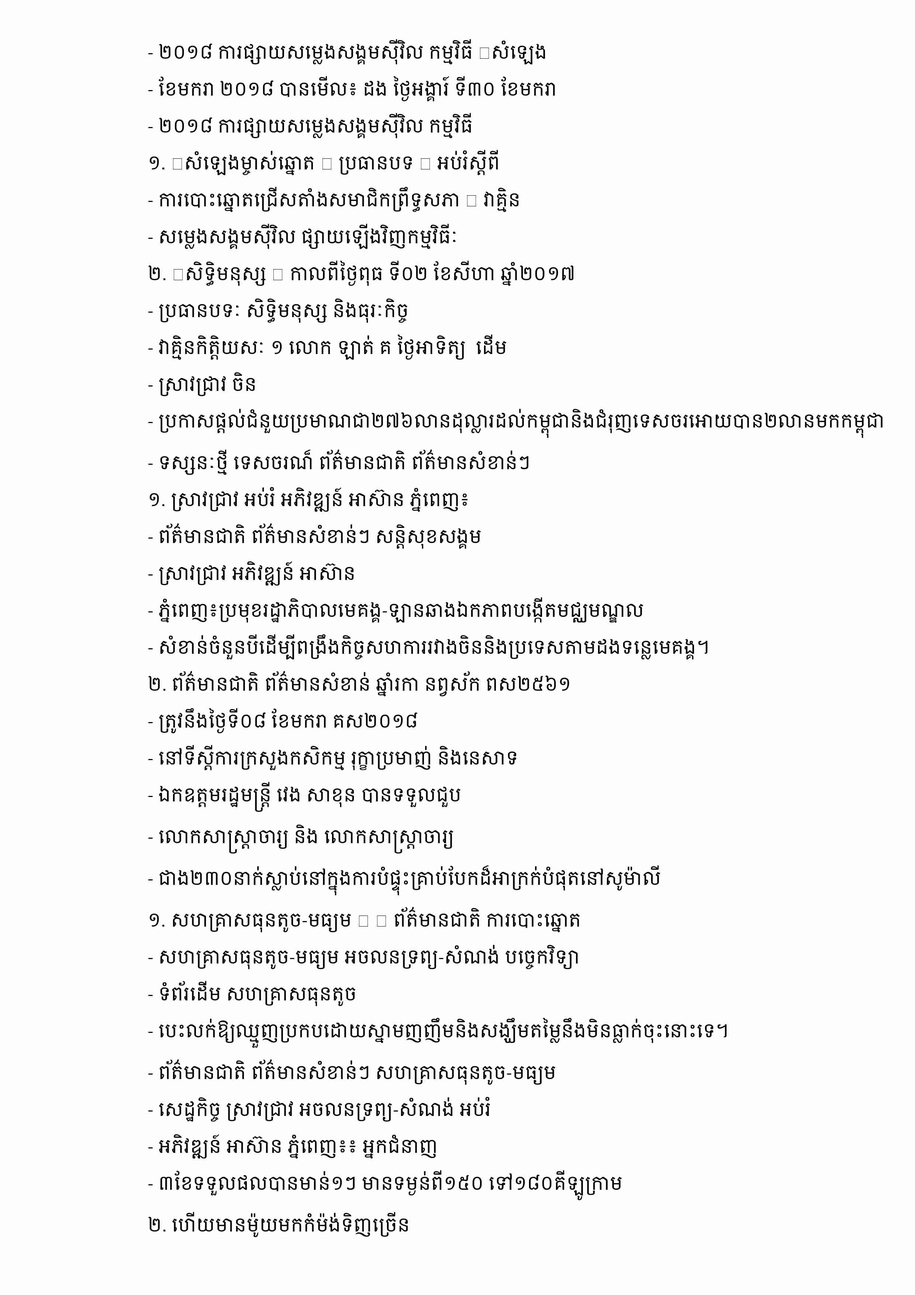text: (148, 409, 890, 438), (148, 1018, 733, 1048), (148, 865, 666, 896), (148, 634, 715, 660), (148, 1170, 628, 1200), (148, 597, 649, 623), (148, 671, 576, 697), (148, 907, 586, 932), (148, 261, 580, 286), (148, 76, 562, 102), (148, 1059, 561, 1085), (148, 39, 552, 65), (148, 945, 585, 969), (148, 449, 536, 475), (148, 782, 466, 812), (148, 334, 512, 360), (148, 187, 525, 212), (148, 745, 523, 770), (148, 824, 459, 854), (148, 150, 505, 175), (148, 523, 487, 549), (148, 1097, 496, 1122), (148, 113, 478, 138), (148, 487, 475, 512), (148, 224, 463, 249), (148, 1134, 443, 1159), (148, 708, 423, 734), (148, 1212, 415, 1237), (148, 298, 414, 323), (148, 981, 362, 1006), (148, 561, 360, 586), (148, 372, 262, 396)
